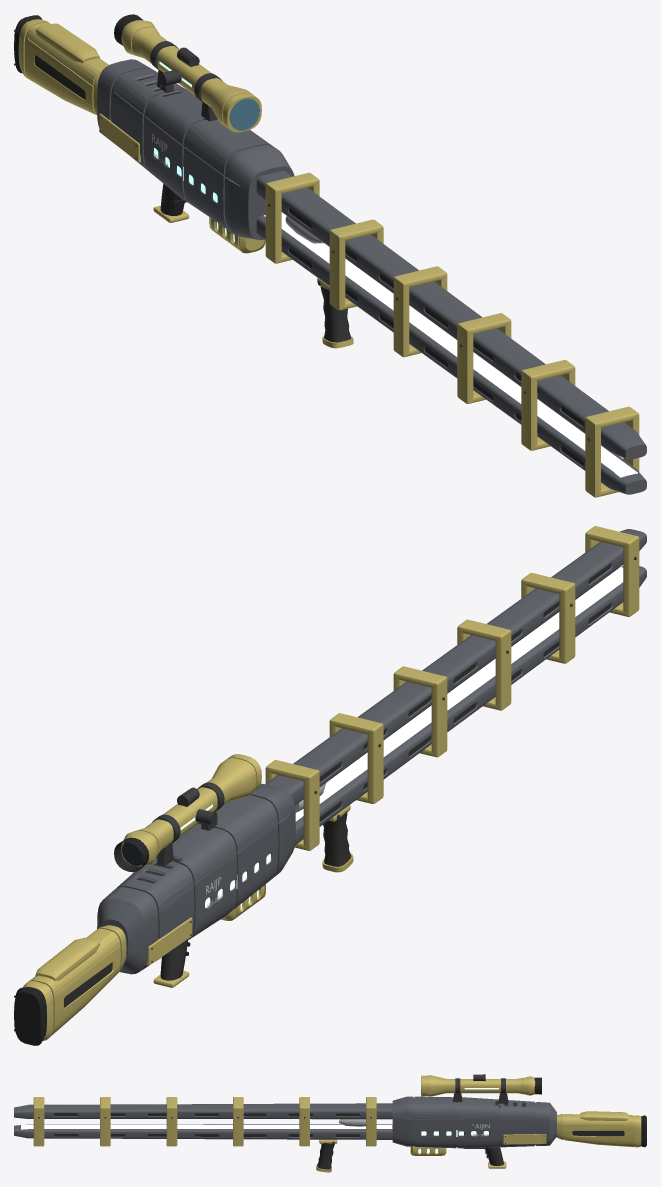
File: raijin.glb
3 views of the same model, one above another, from view 1: azimuth 30°, elevation 25°; view 2: azimuth 150°, elevation 25°; view 3: azimuth 270°, elevation 25° (orthographic). The views are drawn at different scales.
Parts seen in each view (by area): view 1: Body; view 2: Body; view 3: Body.
Boxes of the visible parts, left/top/right/bottom form: Body: left=14, top=14, right=646, bottom=497; Body: left=14, top=526, right=646, bottom=1045; Body: left=14, top=1074, right=646, bottom=1172.
Size of the model in its own units: 0.0936 by 0.295 by 1.77.
